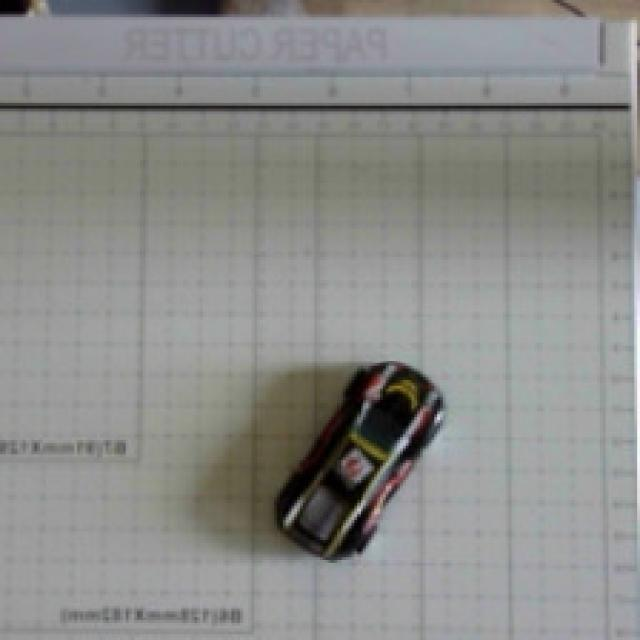Red Car: (234, 338, 502, 572)
